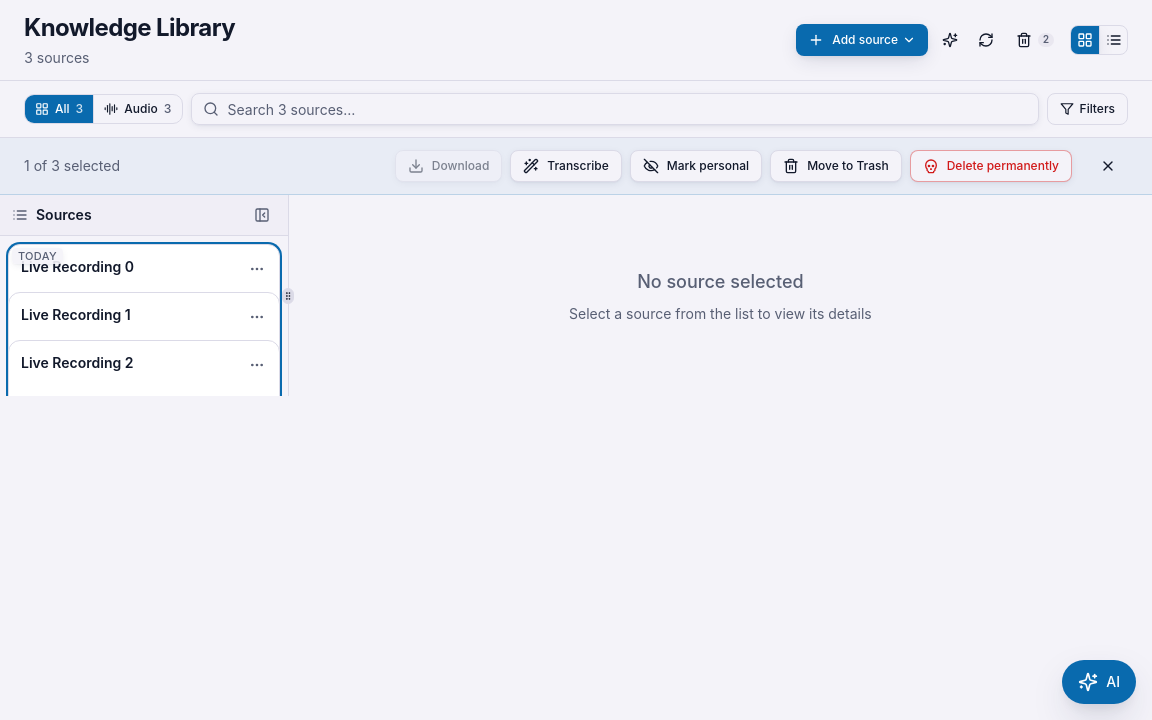
Test: 2026-07-23 — Trash selection uses live-list explorer semantics › the live BulkActionsBar never renders in Trash; the Trash bulk bar needs a TRASH-corpus selection
This screenshot has width=1152, height=720.
Expected: the element named "bulk actions" is shown, x1=0 y1=138 x2=1151 y2=195
Click the button "2" at (1035, 40), box x1=1008 y1=24 x2=1062 y2=56
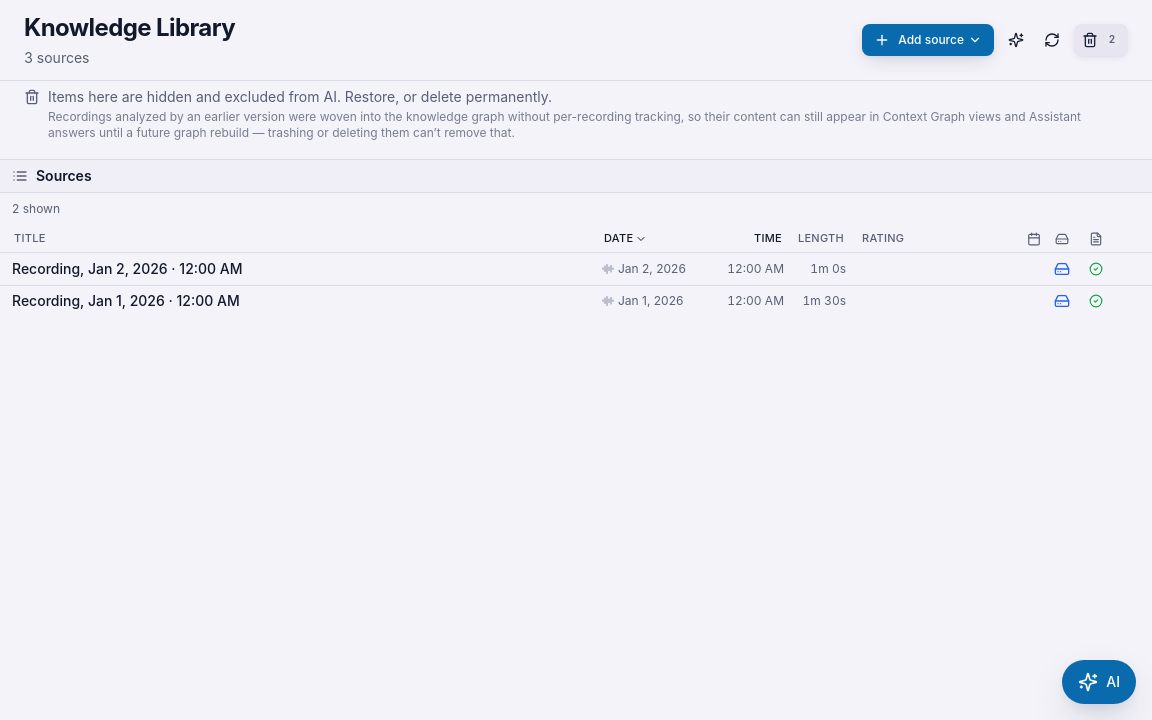
Now the option with test id "source-row-trash-1" is shown, box x1=12 y1=260 x2=1103 y2=277
